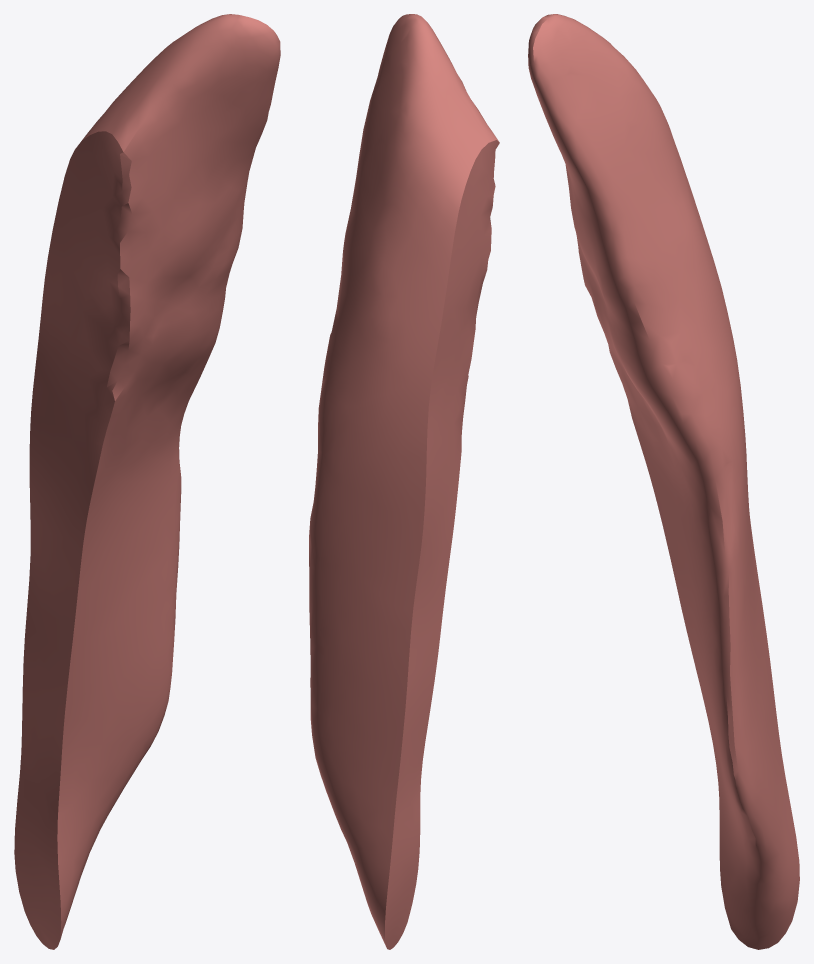
File: fma301547_mm4024m.glb
The picture shows the model from 3 angles, left to right: view 1: azimuth 30°, elevation 25°; view 2: azimuth 150°, elevation 25°; view 3: azimuth 270°, elevation 25°; orthographic projection. The views are drawn at different scales.
Visible parts, largest first — view 1: FMA301547_MM4024M; view 2: FMA301547_MM4024M; view 3: FMA301547_MM4024M.
Part boxes in pixels (x1,y1,x2,y2): FMA301547_MM4024M: [14, 14, 280, 949]; FMA301547_MM4024M: [309, 14, 499, 949]; FMA301547_MM4024M: [528, 14, 799, 949].
Size of the model in its own units: 0.0118 by 0.0728 by 0.0185.
